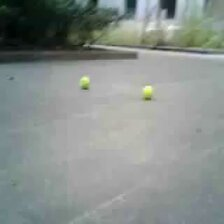tennis: (141, 84, 153, 99), (79, 74, 90, 88)
